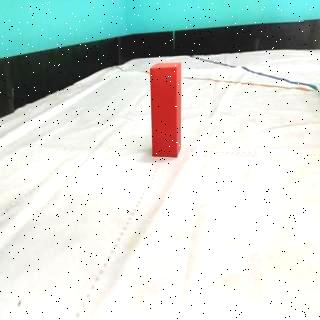redbox: (150, 62, 180, 158)
